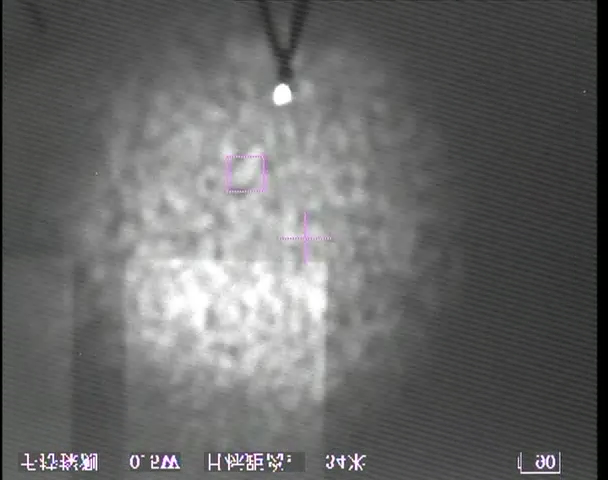my: (270, 81, 293, 108)
